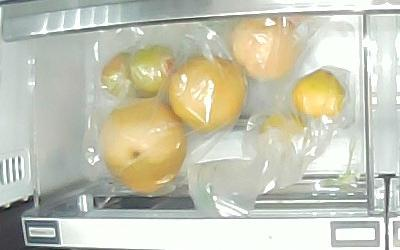peach_vinyl: (231, 17, 303, 81)
pear_vinyl: (101, 101, 187, 192), (167, 57, 247, 132)
tangerine_vinyl: (292, 70, 345, 119), (129, 45, 178, 95), (261, 114, 307, 147)
tomato_vinyl: (102, 53, 135, 99)
